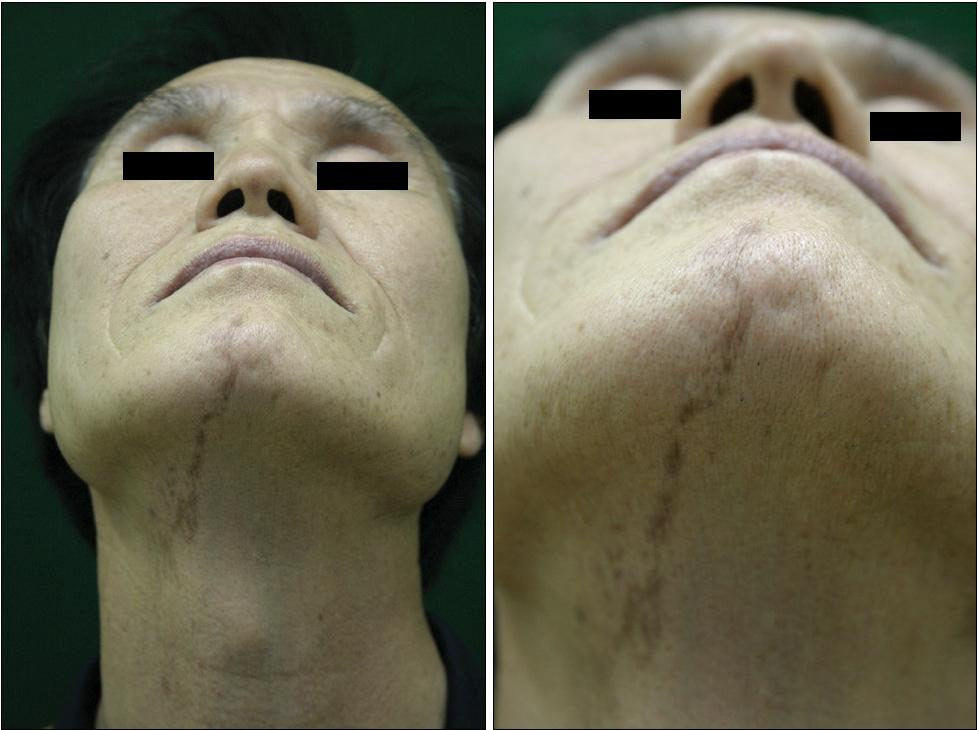linear lichen planus: (615, 289, 760, 654), (167, 355, 252, 551)
